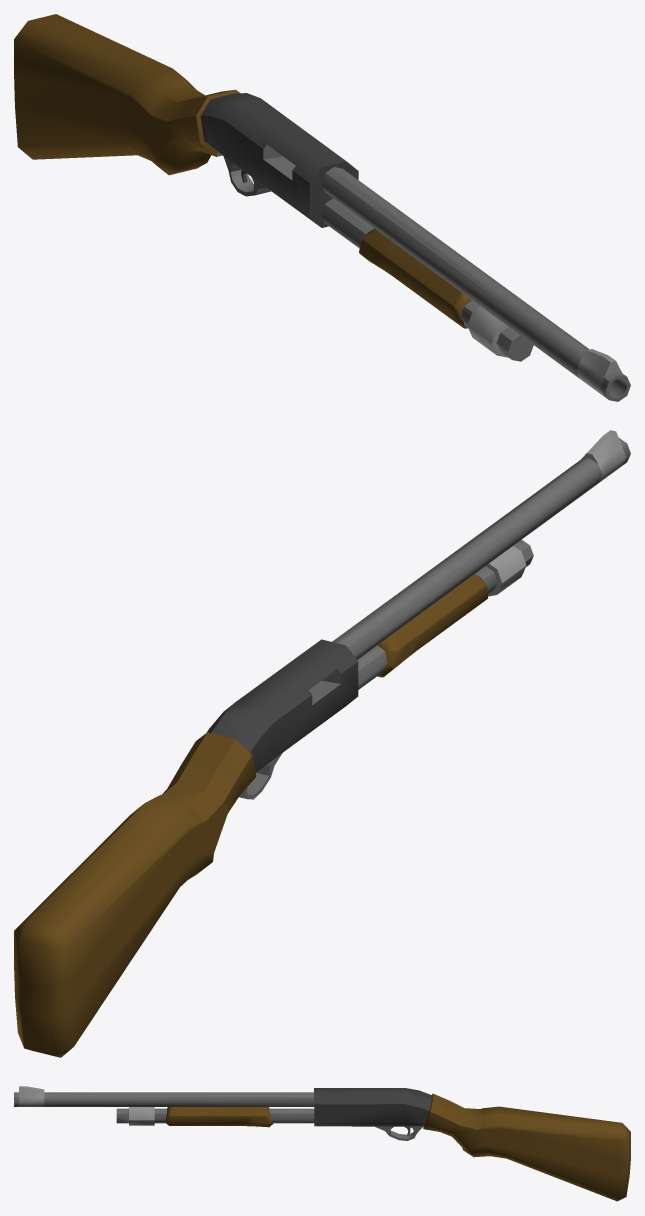
Rendered from 18-Wood-pump-shotgun.glb.
3 renders of one model, top to bottom at view 1: azimuth 30°, elevation 25°; view 2: azimuth 150°, elevation 25°; view 3: azimuth 270°, elevation 25°, orthographic. The views are drawn at different scales.
Parts seen in each view (by area): view 1: Wood pump shotgun; view 2: Wood pump shotgun; view 3: Wood pump shotgun.
Part boxes in pixels (<box>): Wood pump shotgun: <box>14,14,630,401</box>; Wood pump shotgun: <box>14,430,630,1057</box>; Wood pump shotgun: <box>14,1086,630,1201</box>.
Bounding box in the file's own units: 0.0602 × 0.2137 × 1.08.
Materials: 1 (1 with a texture image).
